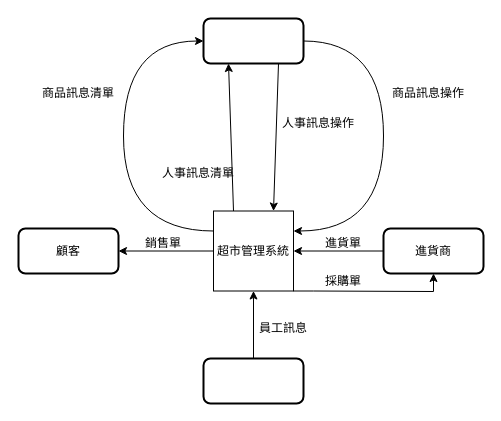
Some shapes in this 501 by 421 pixel diagram are drawn without their labels. The shapes that lost their labels are listed below. From the top down, each one's centre as x and y in pixels, then its label:
(x=253, y=40): 超市總經理
(x=253, y=380): 員工
